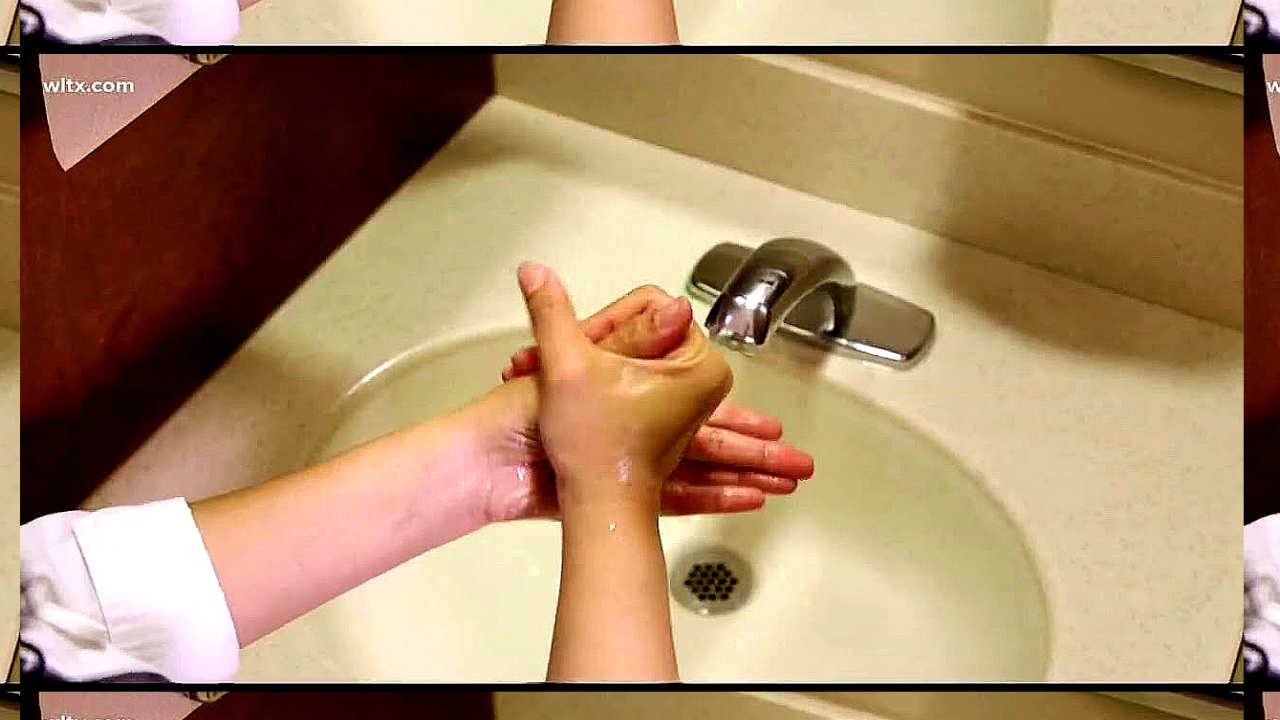washing hand: (490, 187, 977, 619)
